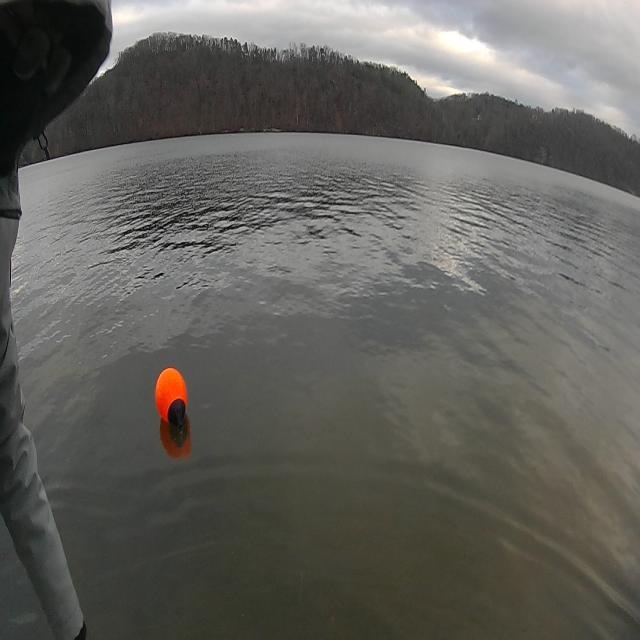Buoy: (153, 363, 193, 438)
